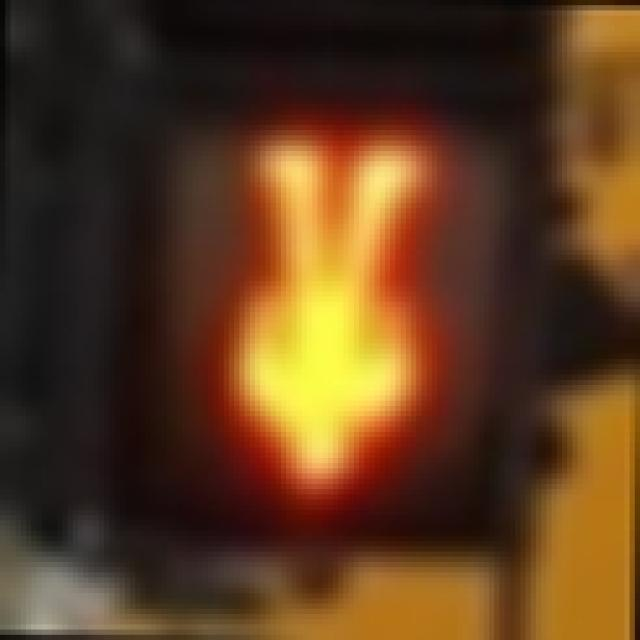red-crossing: (135, 93, 489, 530)
